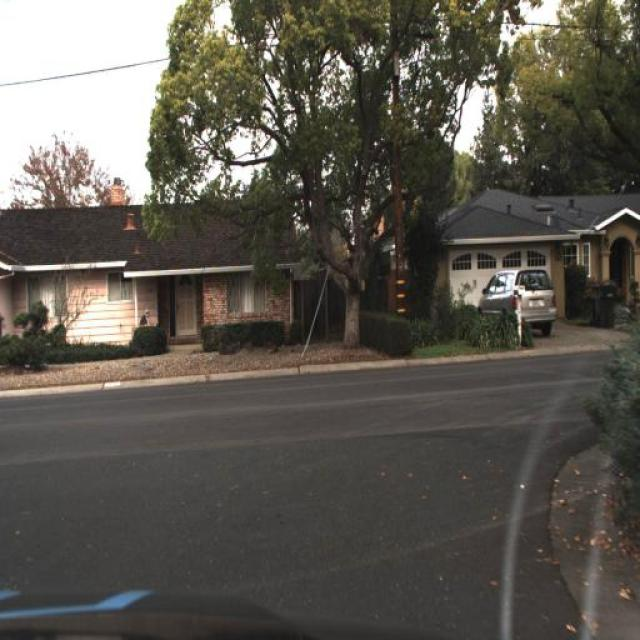car: (476, 264, 558, 334)
